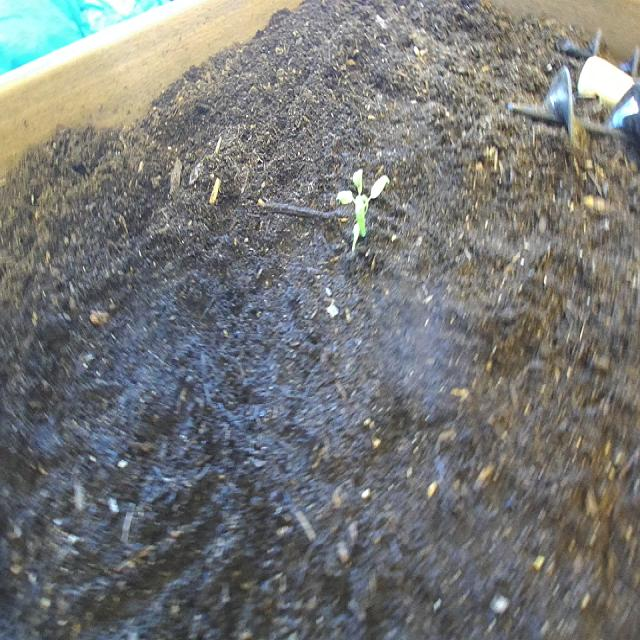Healthy: (334, 155, 393, 271)
